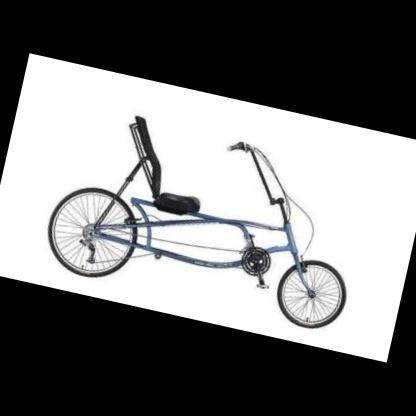Bicycle: (38, 109, 356, 325)
